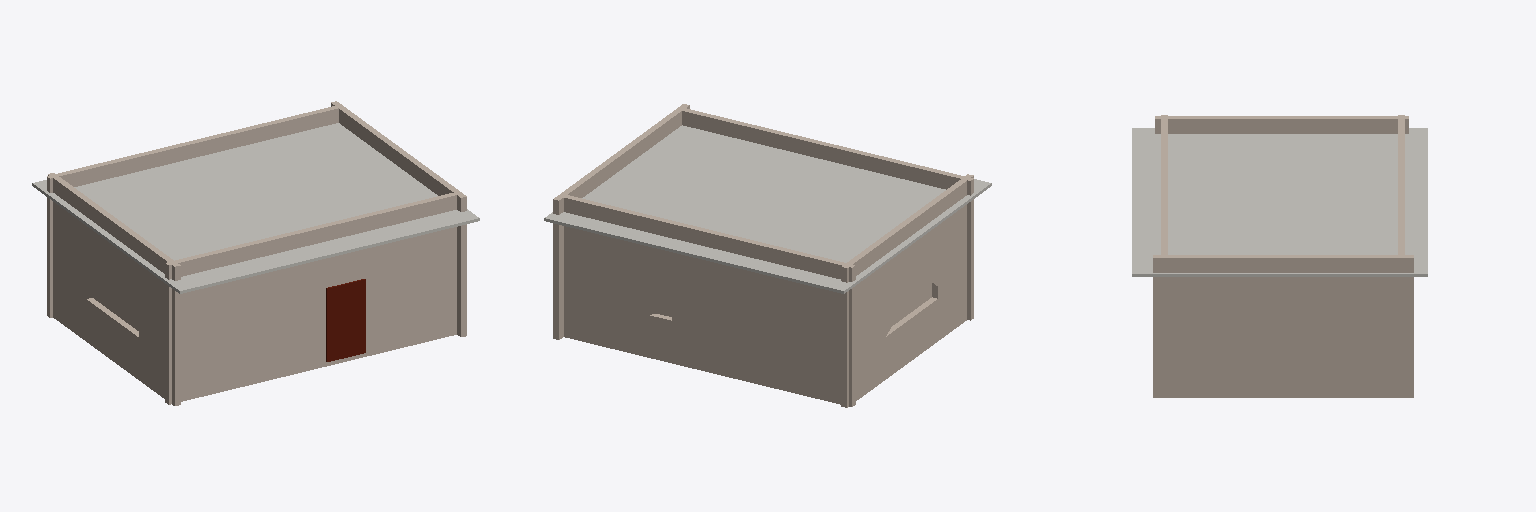
Rendered from insidethehouse2.obj.
3 views of the same model, side by side, from view 1: azimuth 30°, elevation 25°; view 2: azimuth 150°, elevation 25°; view 3: azimuth 270°, elevation 25° (orthographic).
Parts seen in each view (by area): view 1: Cube_Cube.019, Cube.006_Cube.023, Cube.004_Cube.021, Cube.003_Cube.020, Cube.005_Cube.022, Cube.001_Cube.024; view 2: Cube.003_Cube.020, Cube.006_Cube.023, Cube.004_Cube.021, Cube_Cube.019, Cube.005_Cube.022; view 3: Cube.005_Cube.022, Cube.006_Cube.023, Cube.004_Cube.021, Cube_Cube.019, Cube.003_Cube.020.
Part boxes in pixels (x1,y1,x2,y2): Cube_Cube.019: (165, 193, 456, 404); Cube.006_Cube.023: (32, 123, 479, 293); Cube.004_Cube.021: (48, 173, 180, 405); Cube.003_Cube.020: (47, 105, 338, 317); Cube.005_Cube.022: (331, 101, 466, 336); Cube.001_Cube.024: (326, 279, 365, 361); Cube.003_Cube.020: (560, 195, 855, 406); Cube.006_Cube.023: (544, 125, 991, 293); Cube.004_Cube.021: (841, 174, 973, 407); Cube_Cube.019: (679, 108, 973, 320); Cube.005_Cube.022: (553, 104, 689, 339); Cube.005_Cube.022: (1153, 255, 1413, 397); Cube.006_Cube.023: (1132, 128, 1427, 276); Cube.004_Cube.021: (1155, 116, 1408, 133); Cube_Cube.019: (1161, 115, 1167, 254); Cube.003_Cube.020: (1398, 115, 1404, 256).
Size of the model in its own units: 14.74 by 6.56 by 12.58.